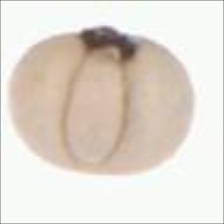L5: (60, 53, 132, 167), (76, 23, 149, 64)
L6: (8, 24, 196, 177)
